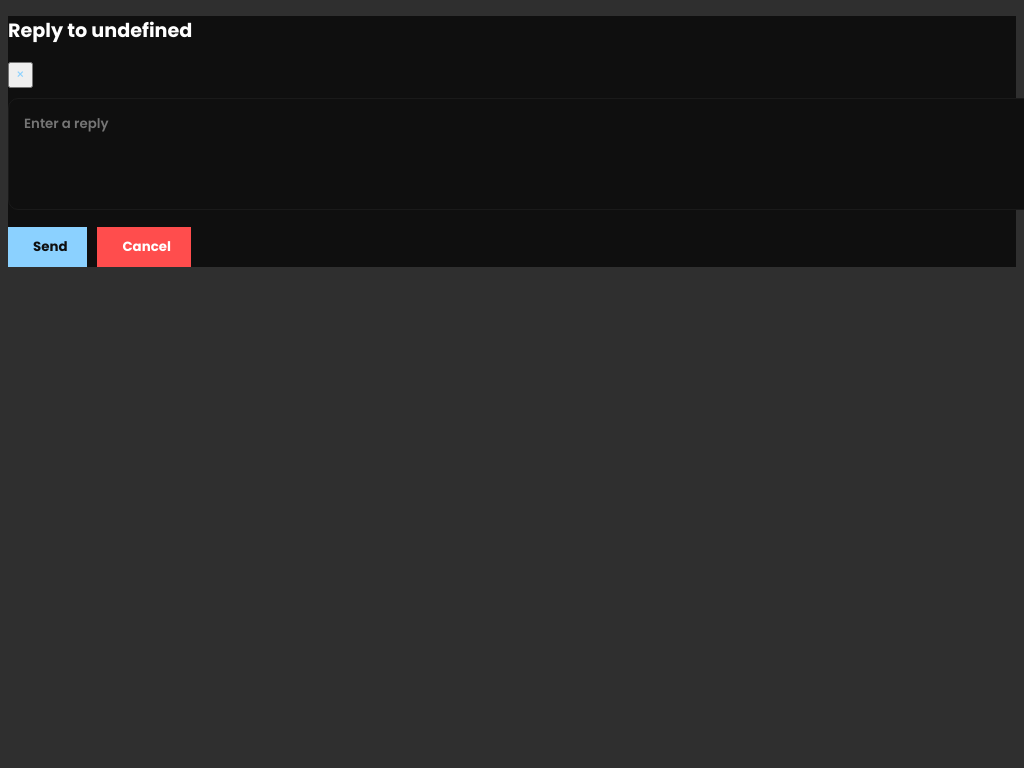
Admin Messages <ReplyMessage/> component › should display an API error
This screenshot has width=1024, height=768.
What coordinates should you click on to do the following:
click the button with class "custom-button--save"
I would click on:
 (48, 247)
Its box is x1=8 y1=227 x2=88 y2=267.
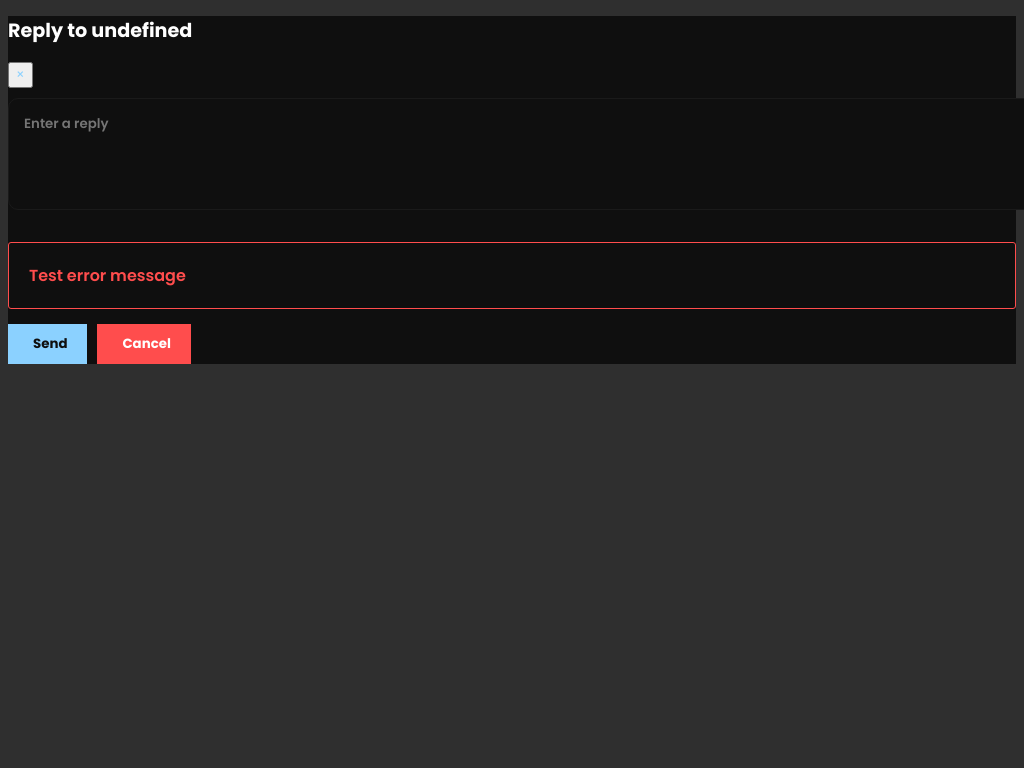
Expected: the element with class "formulary__message--error" reads "Test error message", x1=29 y1=264 x2=186 y2=287
